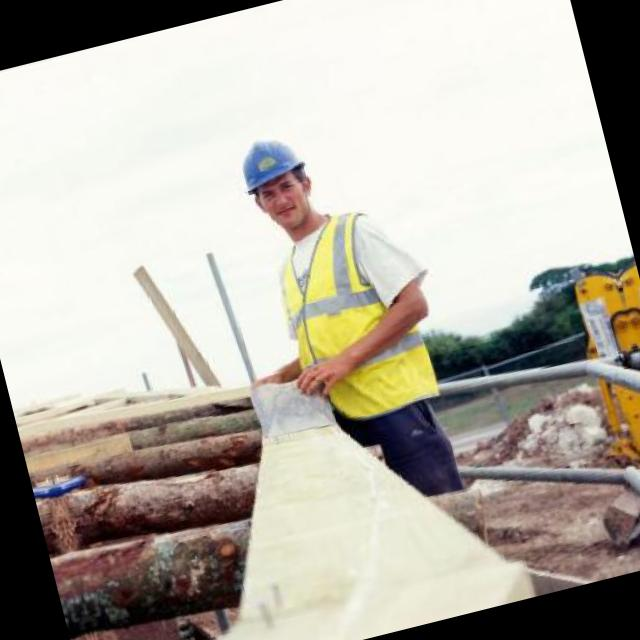helmet: (229, 127, 326, 246)
